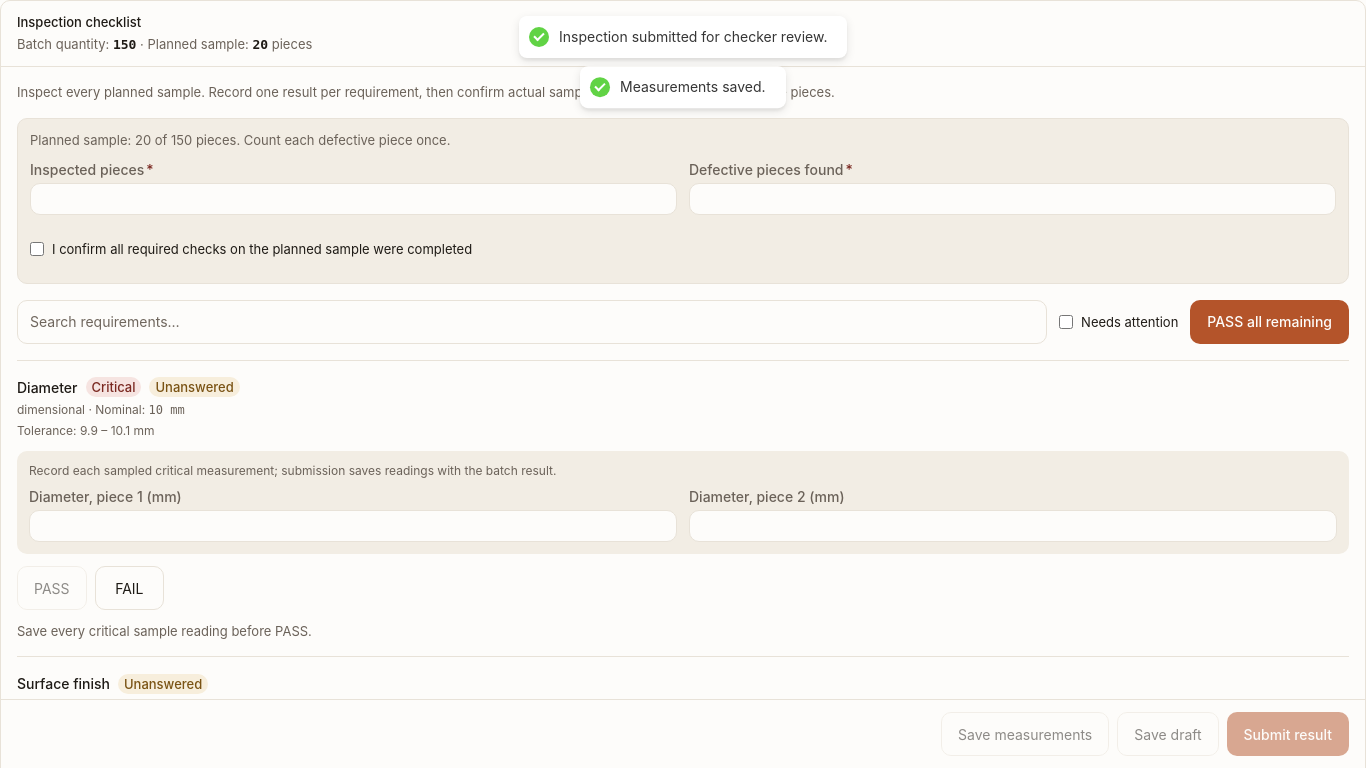
InspectionChecklistPanel › requires actual sample coverage and uses the batch gate for lot-checklist submission
Expected: the button "Submit result" is disabled, [1227, 712, 1349, 756]
Type "20" into the number field labelled "Inspected pieces" at (354, 199), box [31, 184, 676, 214]
Type "0" into the number field labelled "Defective pieces found" at (1012, 199), box [690, 184, 1335, 214]
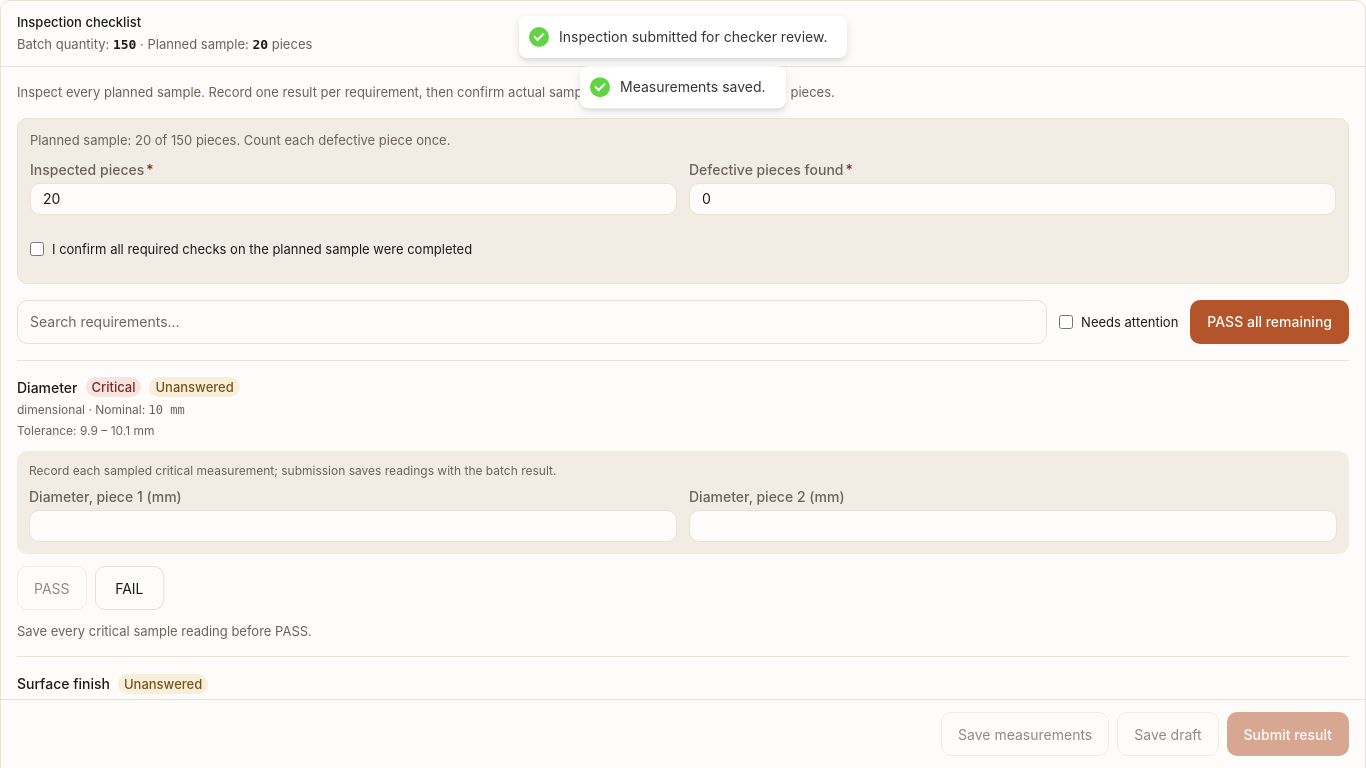
Click the checkbox labelled "I confirm all required checks on the planned sample were completed" at (37, 249), box [30, 242, 44, 256]
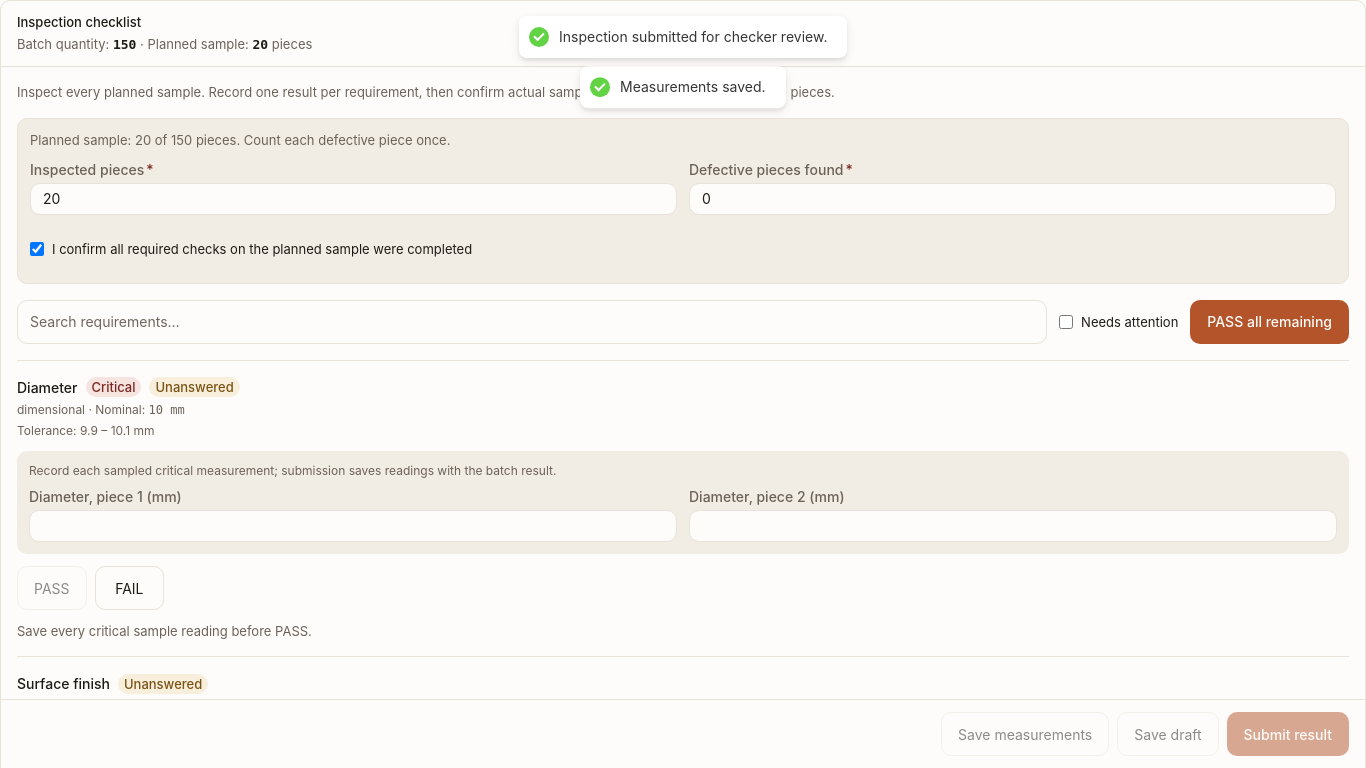
Expected: the button "Submit result" is disabled, [1227, 712, 1349, 756]
Type "10" into the number field labelled "Diameter, piece 1 (mm)" at (353, 526), box [30, 511, 676, 541]
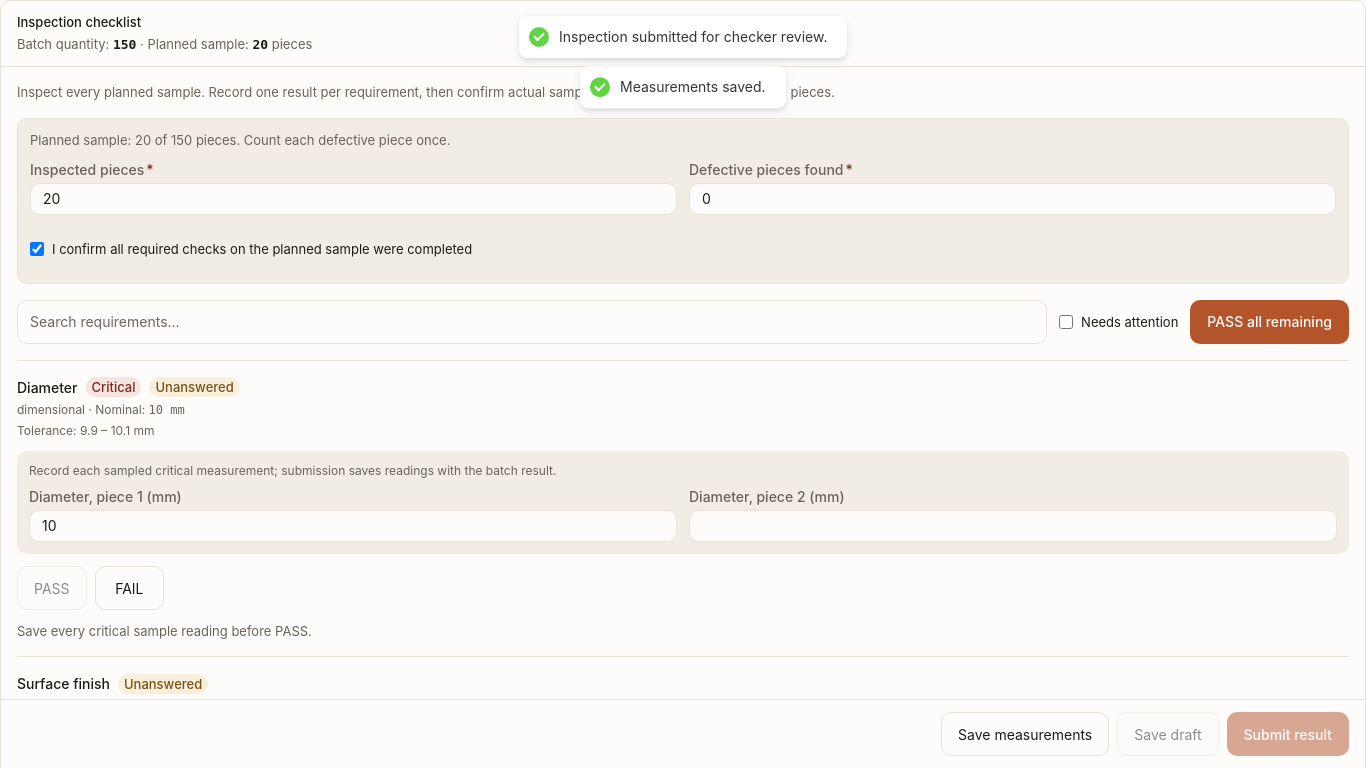
Type "10" into the number field labelled "Diameter, piece 2 (mm)" at (1013, 526), box [690, 511, 1336, 541]
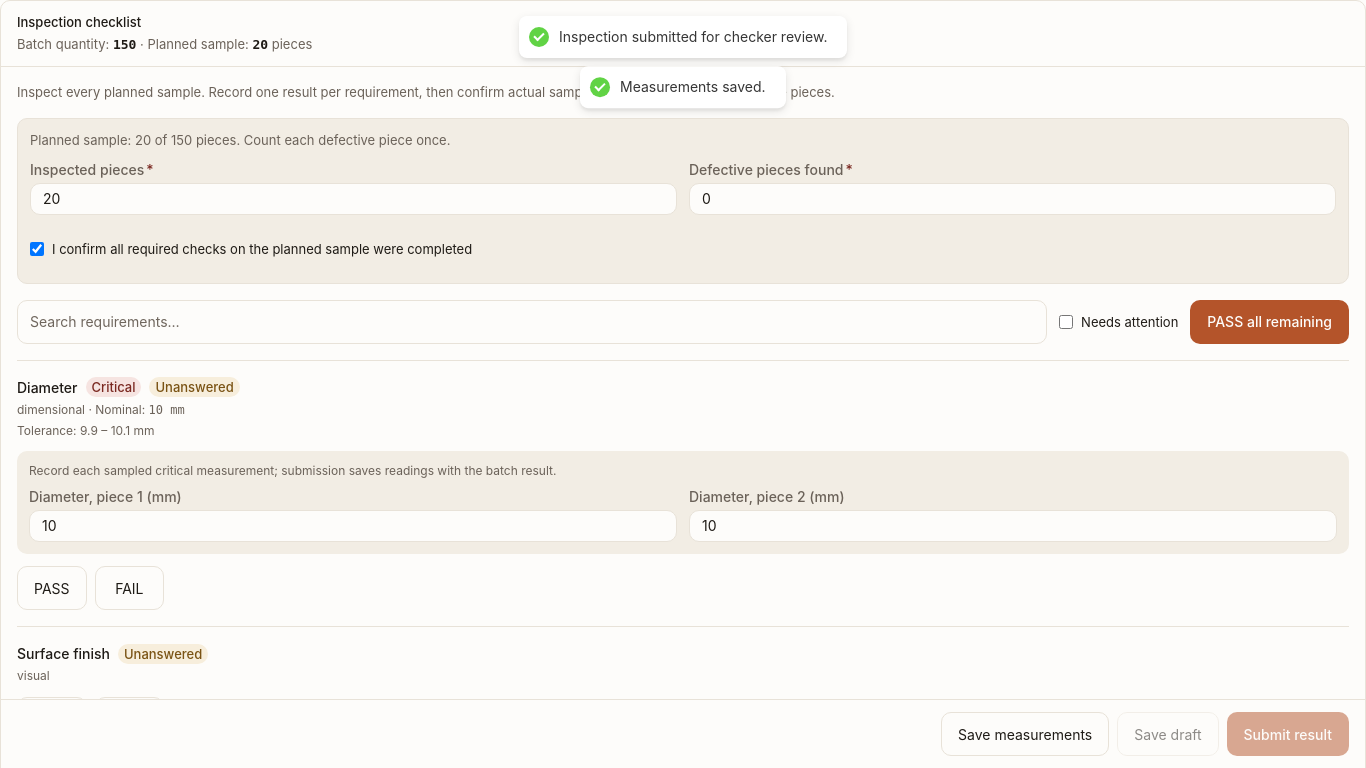
Click the button "PASS all remaining" at (1270, 322), box [1190, 300, 1349, 344]
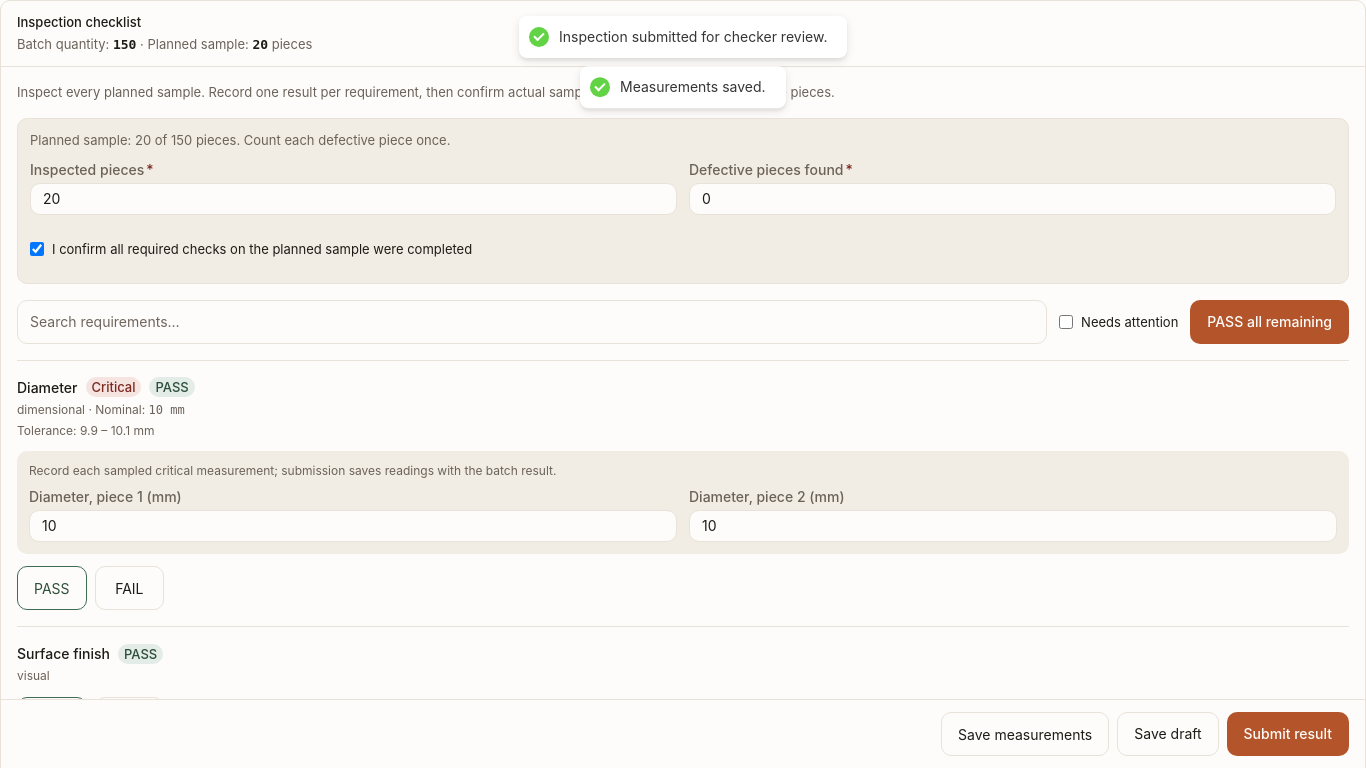
Now the button "Submit result" is enabled
Click the button "Submit result" at (1288, 734), box [1227, 712, 1349, 756]
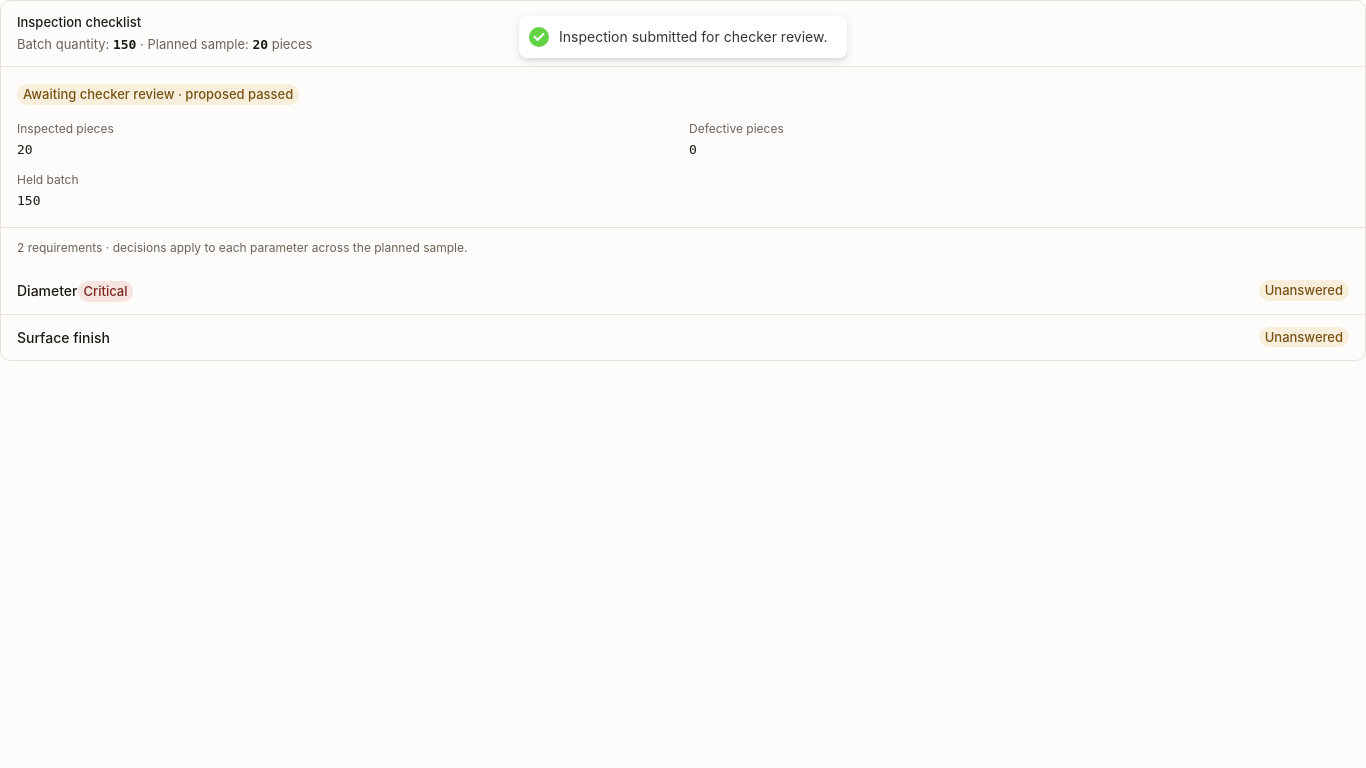
Now the text "Awaiting checker review · proposed passed" is shown, box [17, 84, 299, 105]
